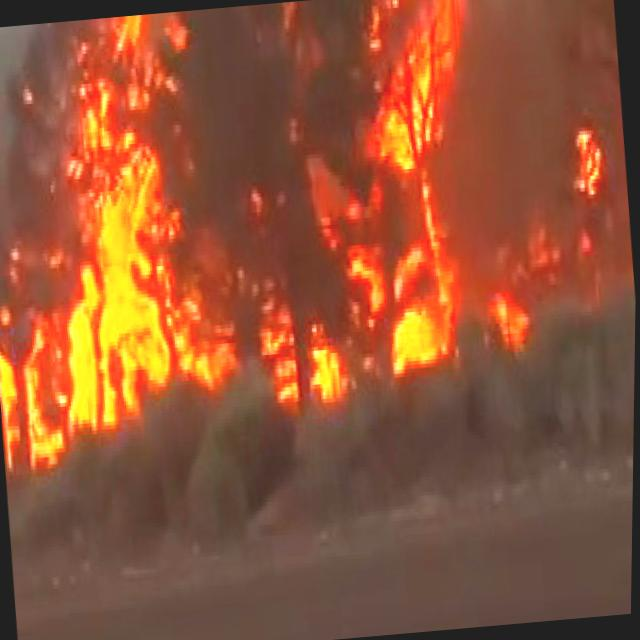fire: (34, 14, 184, 425), (362, 0, 468, 197), (383, 278, 493, 418), (0, 312, 24, 490)
